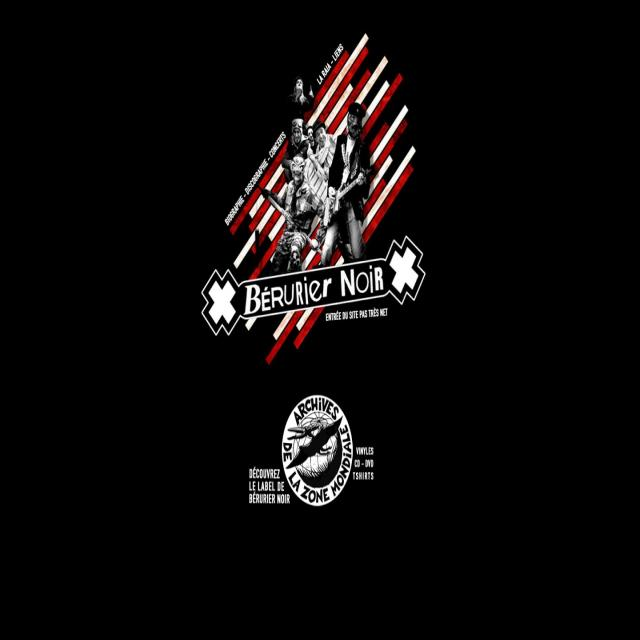image: (0, 0, 640, 640), (196, 40, 430, 360), (279, 389, 354, 510)
text: (245, 460, 290, 510), (352, 440, 379, 483)
